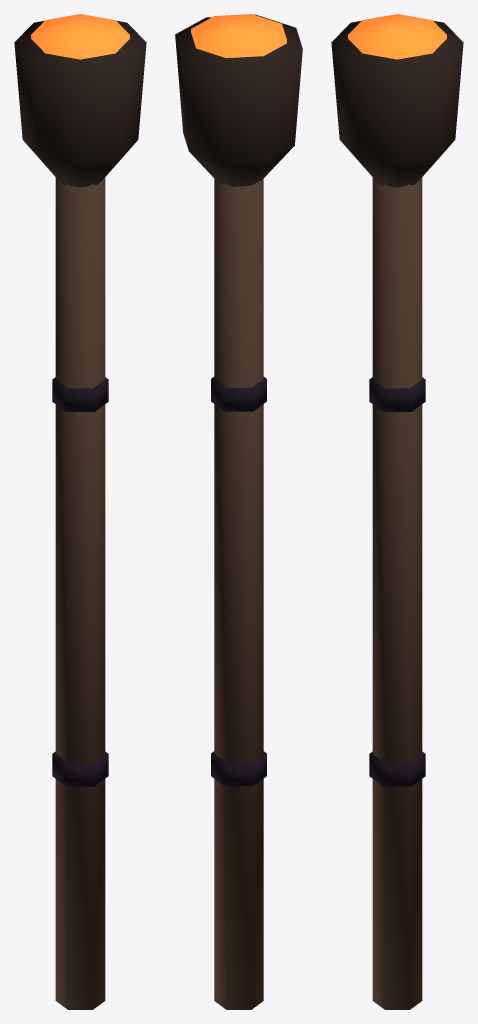
Rendered from torch.glb.
3 views of the same model, side by side, from view 1: azimuth 90°, elevation 25°; view 2: azimuth 210°, elevation 25°; view 3: azimuth 270°, elevation 25° (orthographic).
Visible parts, largest first — view 1: torch; view 2: torch; view 3: torch.
Part boxes in pixels (x1,y1,x2,y2): torch: [14, 14, 146, 1009]; torch: [175, 14, 302, 1009]; torch: [331, 14, 463, 1009].
Size of the model in its own units: 0.16 by 1.3 by 0.16.
